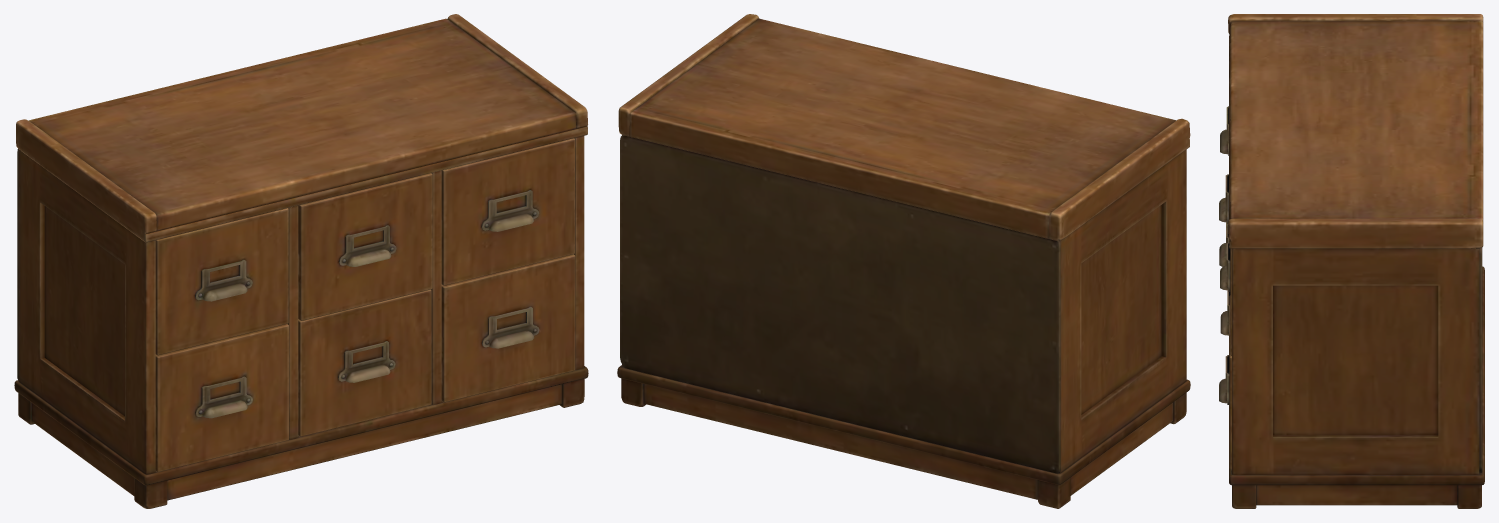
The model's file is vintage_wooden_drawer_01_4k-transformed.glb.
The picture shows the model from 3 angles, left to right: view 1: azimuth 30°, elevation 25°; view 2: azimuth 150°, elevation 25°; view 3: azimuth 270°, elevation 25°; orthographic projection. The views are drawn at different scales.
Visible parts, largest first — view 1: vintage_wooden_drawer_01_body; view 2: vintage_wooden_drawer_01_body; view 3: vintage_wooden_drawer_01_body.
Part boxes in pixels (x1,y1,x2,y2): vintage_wooden_drawer_01_body: [14, 14, 588, 508]; vintage_wooden_drawer_01_body: [617, 14, 1190, 508]; vintage_wooden_drawer_01_body: [1219, 14, 1484, 508].
Bounding box in the file's own units: 0.8576 × 0.5454 × 0.4574.
Materials: 1 (1 with a texture image).
